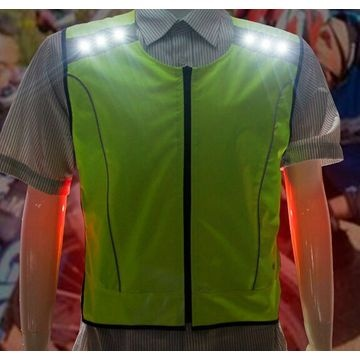person with partial safety: (43, 9, 330, 349)
safety vest: (71, 21, 283, 326)
